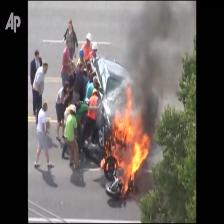fire: (101, 87, 150, 193)
